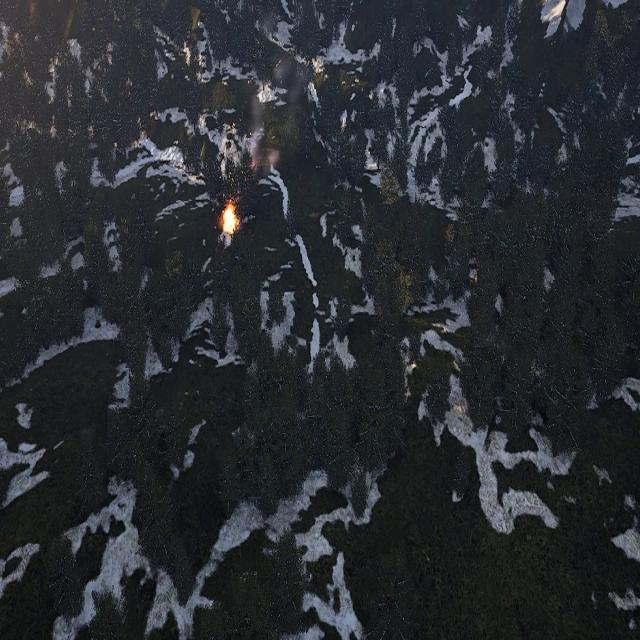fire: (222, 206, 236, 233)
smoke: (247, 52, 301, 172)
